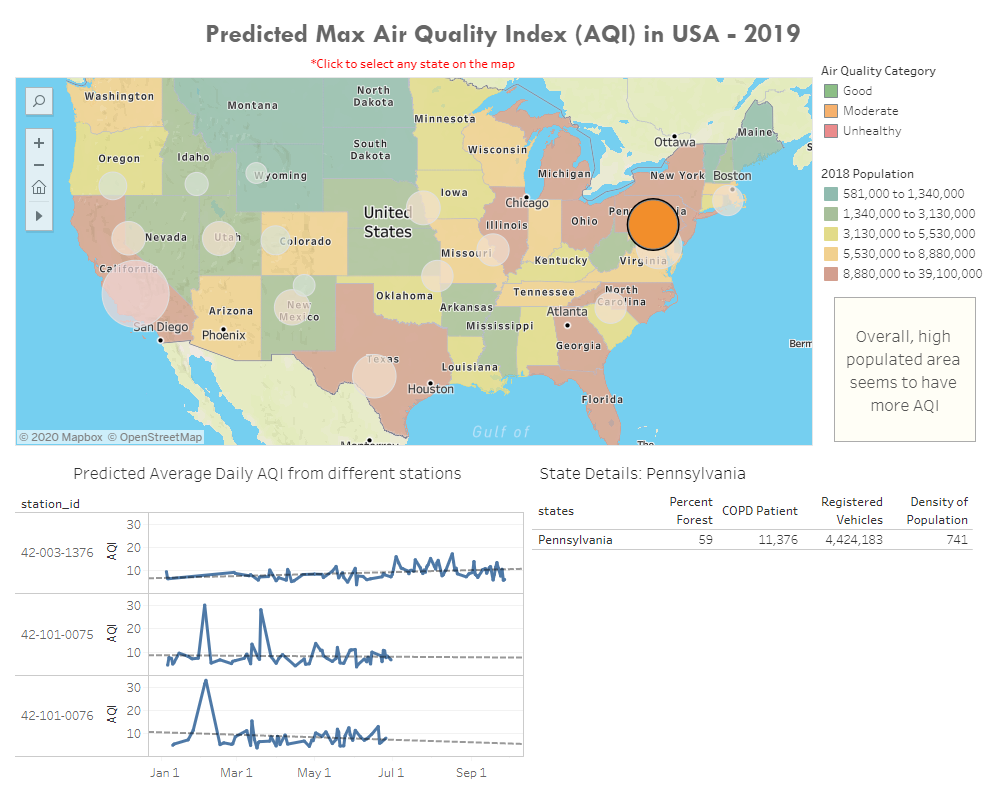

Layout of this report page (visuals, bound fields, positions):
{"tool":"tableau","page":{"name":"Dashboard","canvas":[1100,850],"ordinal":0},"visuals":[{"type":"text","box":[8,8,1084,54.3]},{"type":"text","box":[9,47,884,42]},{"type":"worksheet","title":"Map","mark":"Automatic","rows":["lat"],"cols":["lon"],"box":[8,62.3,888.3,416.4]},{"type":"legend","title":"Map","param":"[federated.10qfx190q4whsg195v5sq0u0fb5b].[usr:Calculation_1568660077996634112:nk","box":[896.3,62.3,195.7,109.7]},{"type":"legend","title":"Map","box":[896.3,172,195.7,306.8]},{"type":"worksheet","title":"Time Series","mark":"Automatic","rows":["station_id","air_data_value_pred"],"cols":["stime"],"box":[8,478.8,601,363.2]},{"type":"worksheet","title":"Details","mark":"Automatic","rows":["states"],"box":[609,478.8,451,363.2]}]}

Visuals, with their boxes in screenshot pixels (x1, y1, x2, y2), scaled from the page's 1100x850 canvas onto the 995x785 screenshot:
text: box(7, 7, 988, 58)
text: box(8, 43, 808, 82)
"Map" worksheet: box(7, 58, 811, 442)
"Map" legend: box(811, 58, 988, 159)
"Map" legend: box(811, 159, 988, 442)
"Time Series" worksheet: box(7, 442, 551, 778)
"Details" worksheet: box(551, 442, 959, 778)
